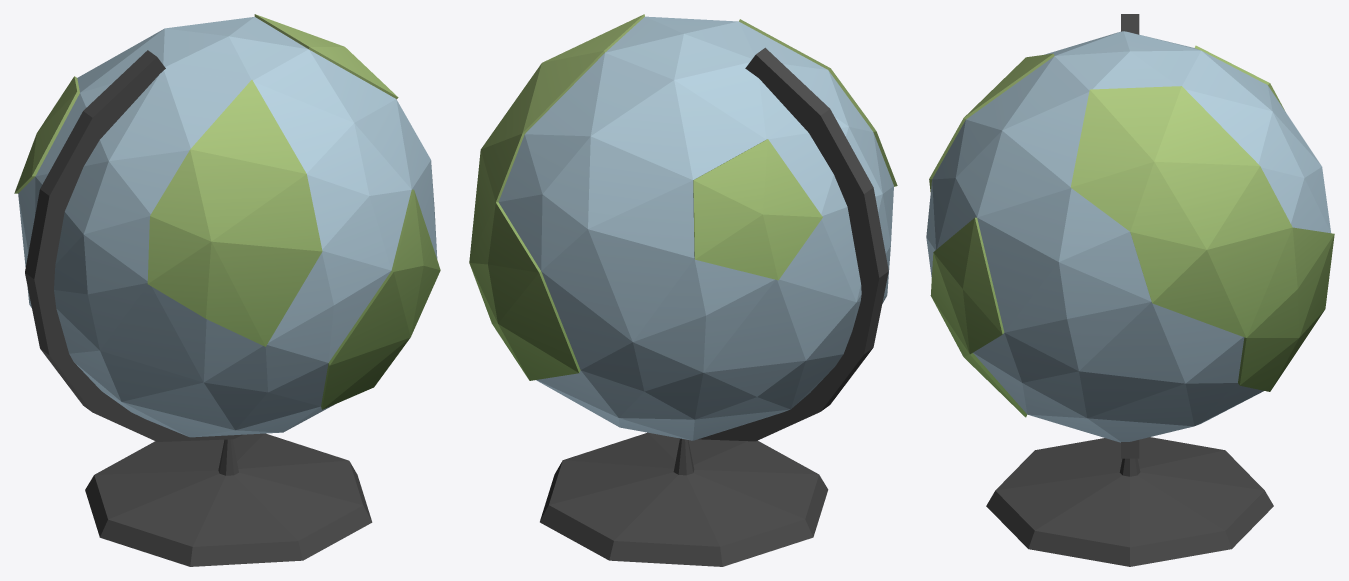
Rendered from Globe_01.fbx.
3 views of the same model, side by side, from view 1: azimuth 30°, elevation 25°; view 2: azimuth 150°, elevation 25°; view 3: azimuth 270°, elevation 25° (orthographic). The views are drawn at different scales.
Visible parts, largest first — view 1: Globe_01; view 2: Globe_01; view 3: Globe_01.
Boxes of the visible parts, box(x1,y1,x2,y2) form: Globe_01: box(14, 14, 440, 566); Globe_01: box(469, 14, 897, 566); Globe_01: box(926, 14, 1334, 566).
Bounding box in the file's own units: 34.22 × 40.07 × 32.51.
